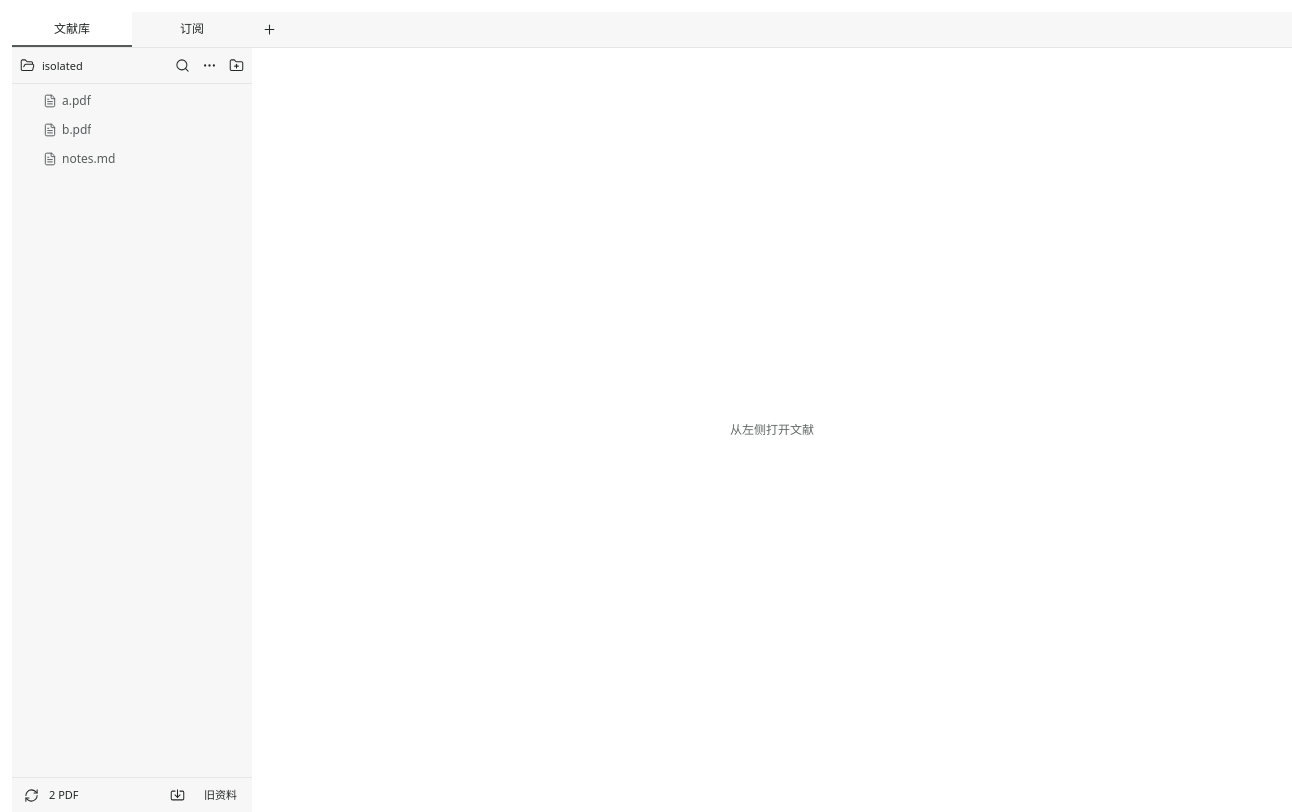
it: replaces the entire directory toolbar during search and restores it on Enter, blur or Escape
Expected: the list item "a.pdf" is shown, [16,87,248,115]
Click the button named "搜索文献" at {"x": 182, "y": 66}, box [170,52,195,78]
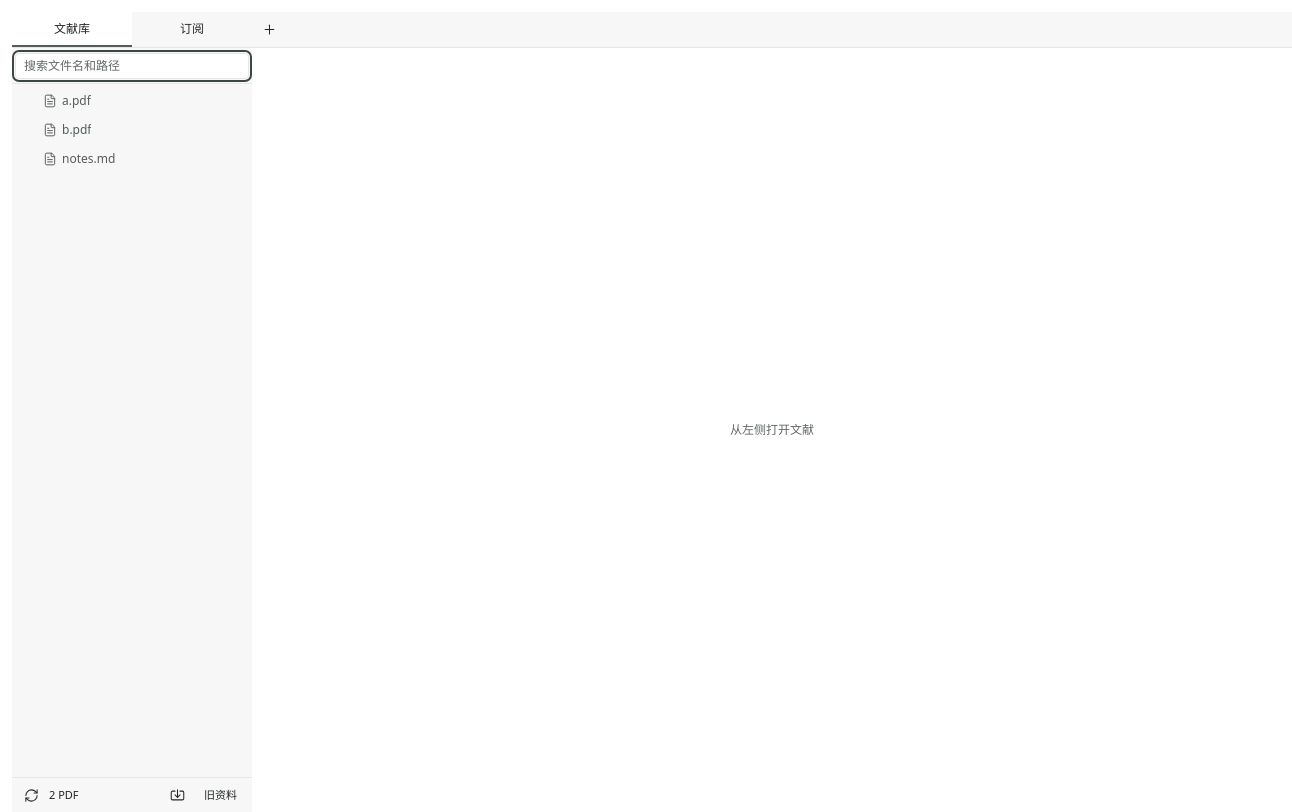
Type "a.pdf" into the field named "搜索文献" at {"x": 132, "y": 66}, box [15,52,249,78]
Then press Enter
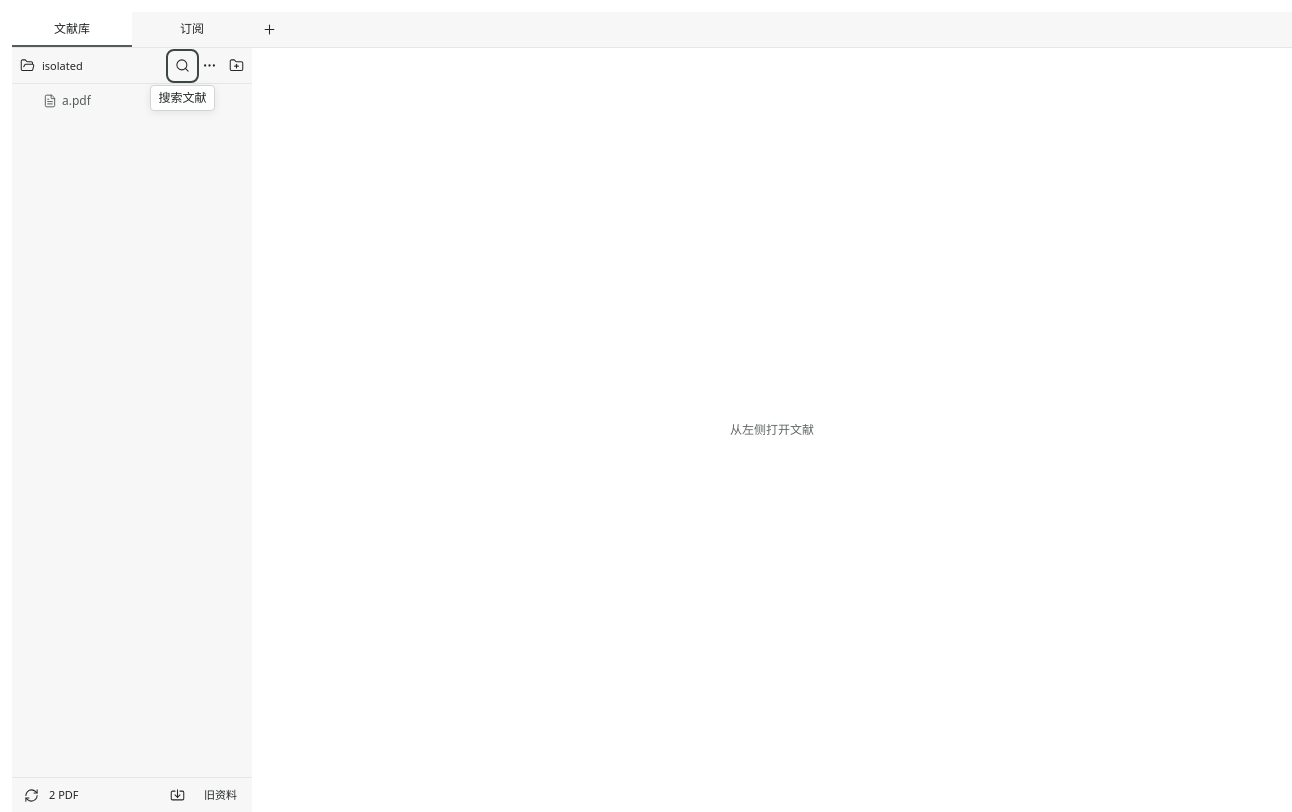
Now the button named "新建文件夹" is shown, box [224,52,249,78]
Now the list item "b.pdf" is gone
Click the button named "搜索文献" at {"x": 182, "y": 66}, box [170,52,195,78]
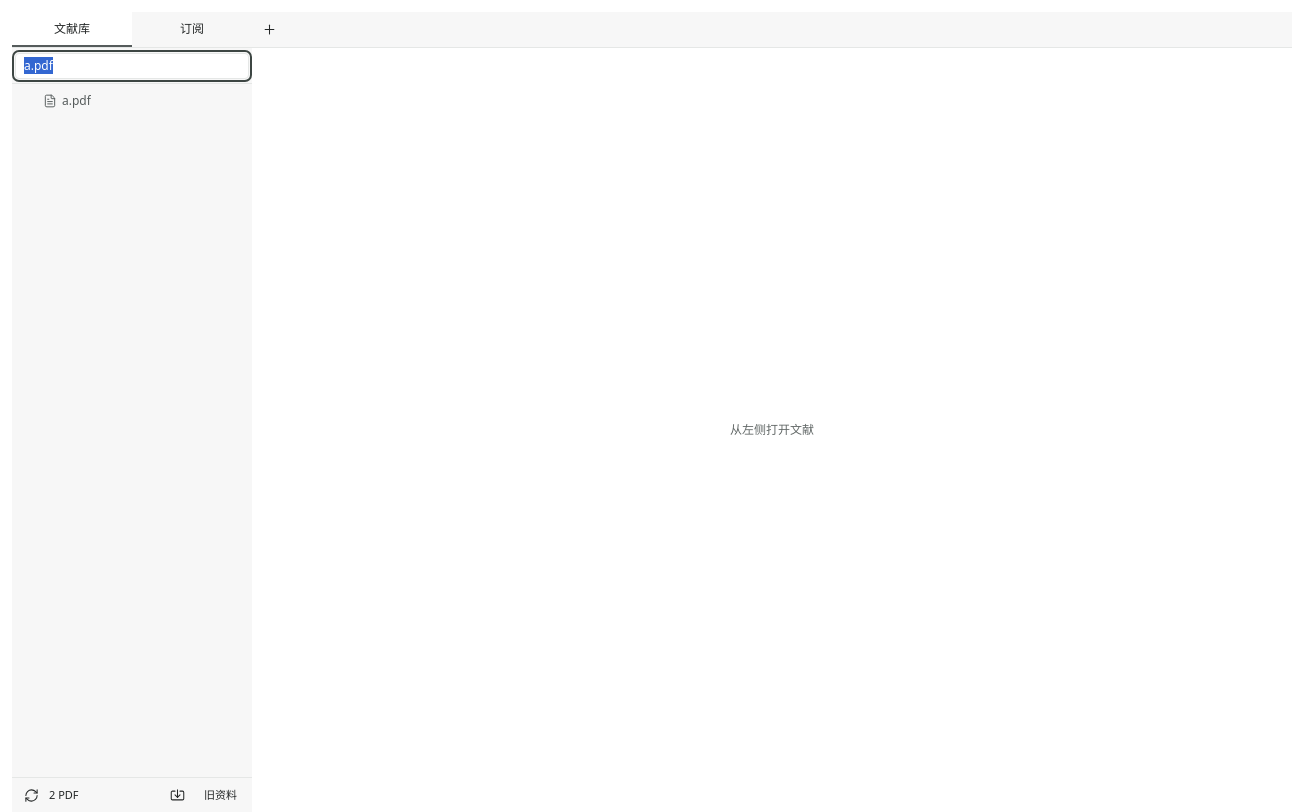
Now the field named "搜索文献" holds "a.pdf", box [15,52,249,78]
Click the button "文献库" at {"x": 72, "y": 30}, box [12,12,132,47]
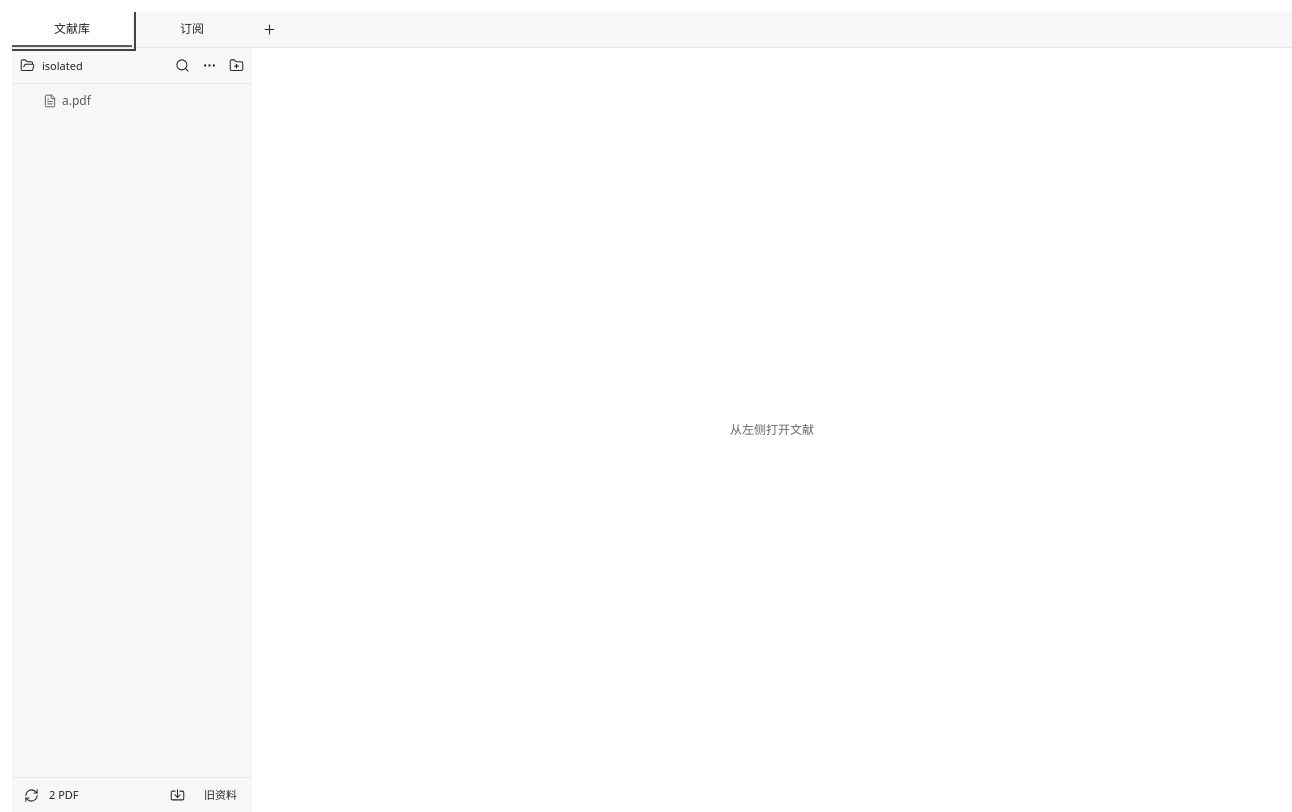
Expected: the tooltip "搜索文献" is not shown
Click the button named "搜索文献" at {"x": 182, "y": 66}, box [170,52,195,78]
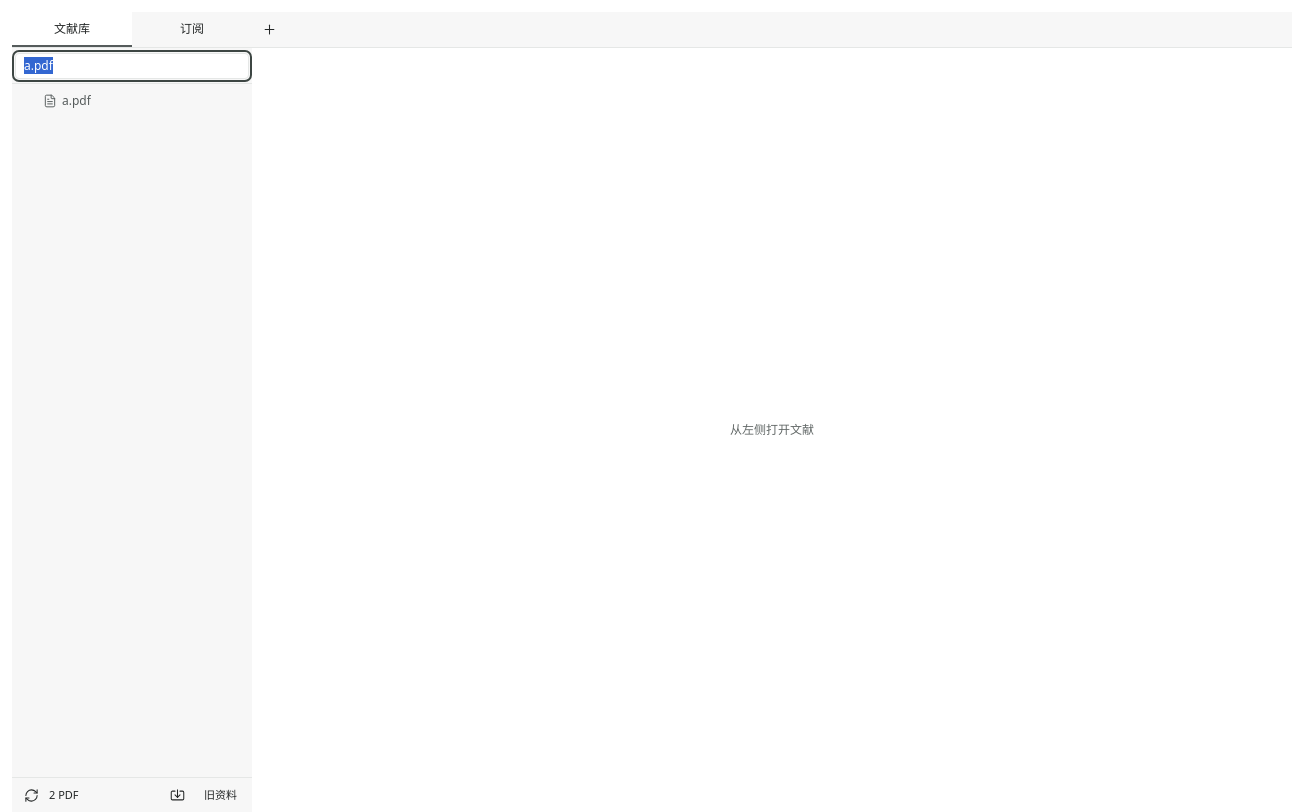
Press Escape
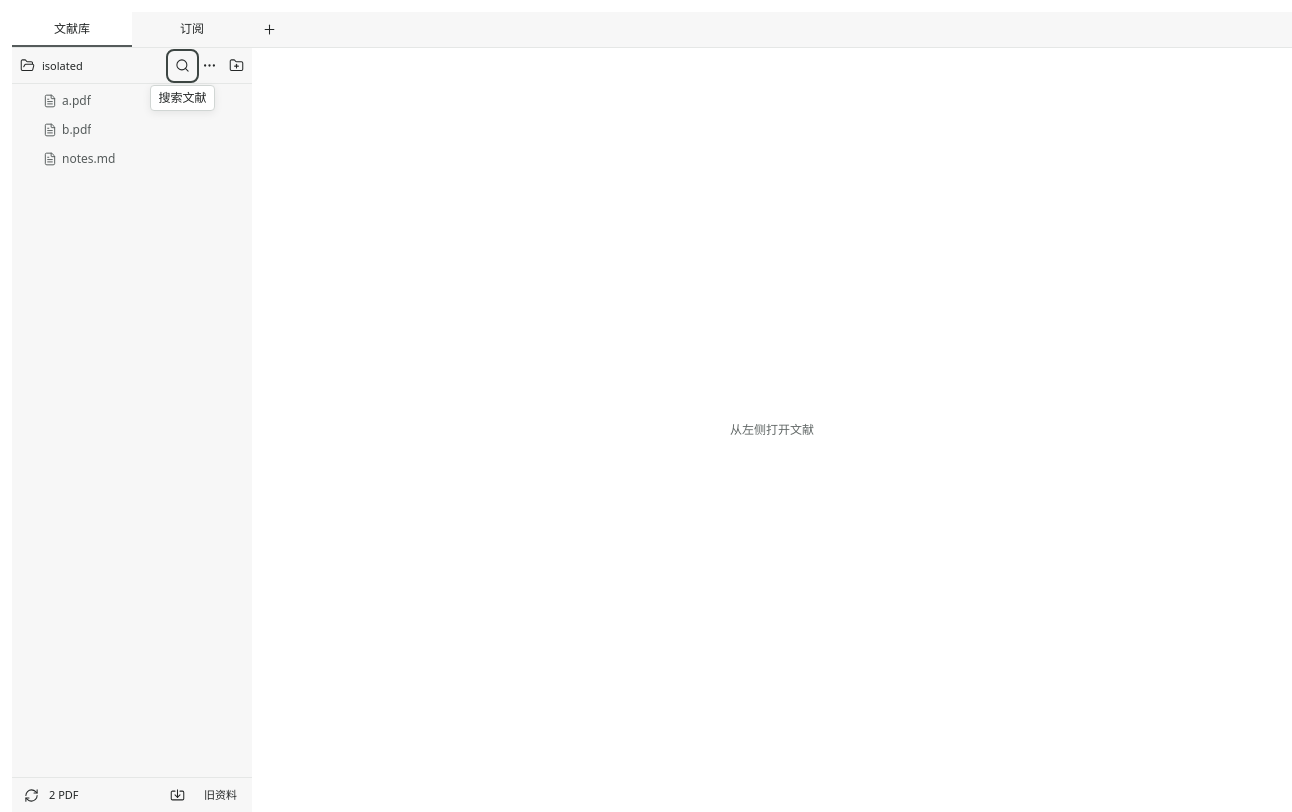
Now the list item "b.pdf" is shown, box [16,116,248,144]
Now the button named "搜索文献" is shown, box [170,52,195,78]
